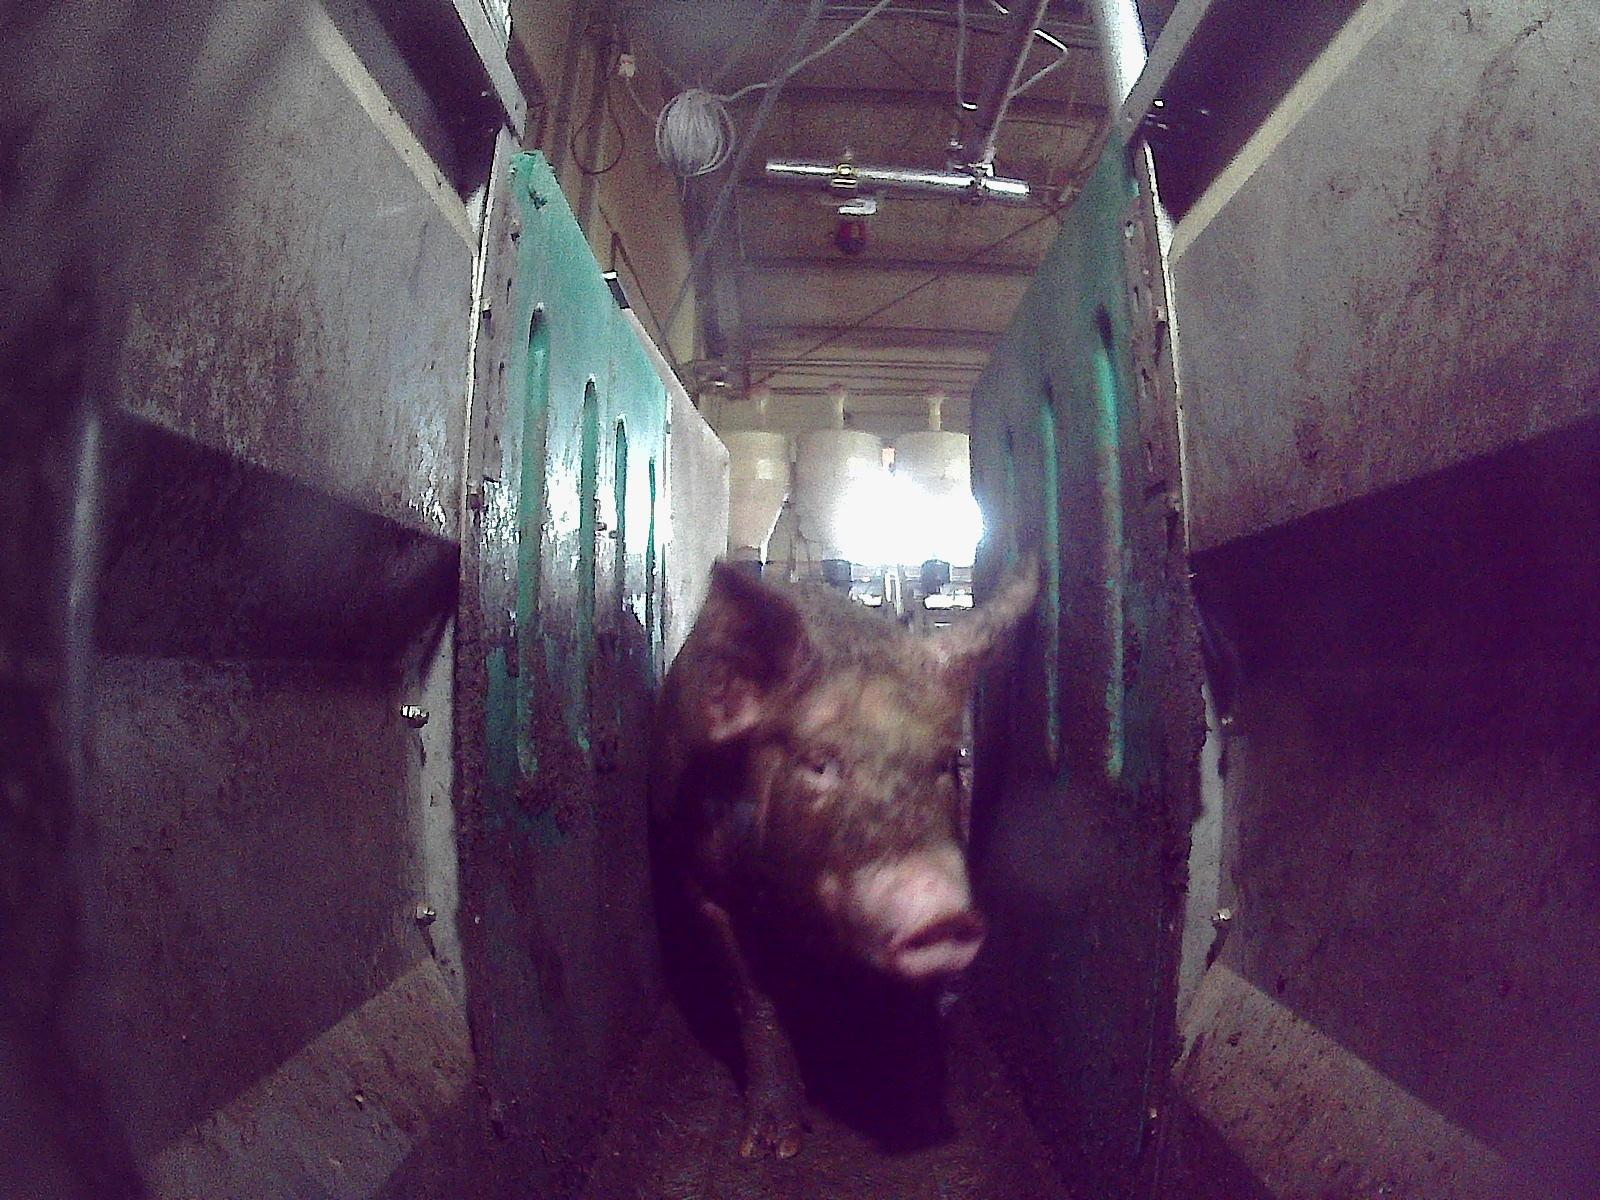Face: (748, 655, 984, 981)
